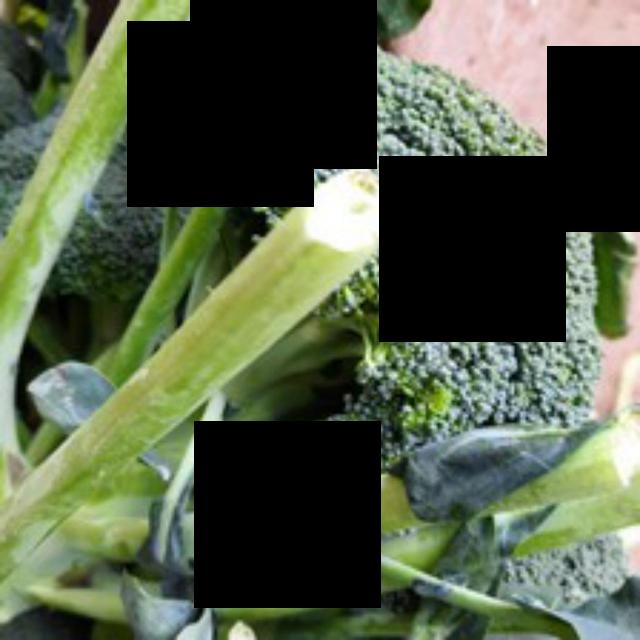broccoli: (131, 38, 604, 518)
